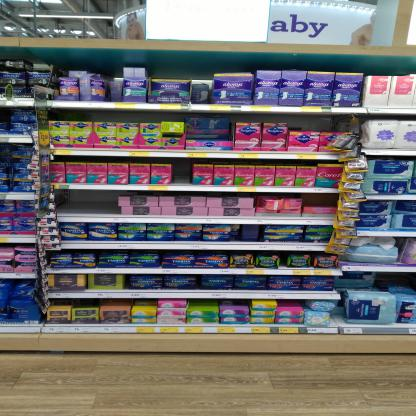Void: (57, 190, 116, 214), (53, 110, 164, 122), (186, 115, 230, 139), (289, 116, 348, 130), (235, 113, 285, 122), (173, 160, 191, 184), (303, 194, 335, 206)
